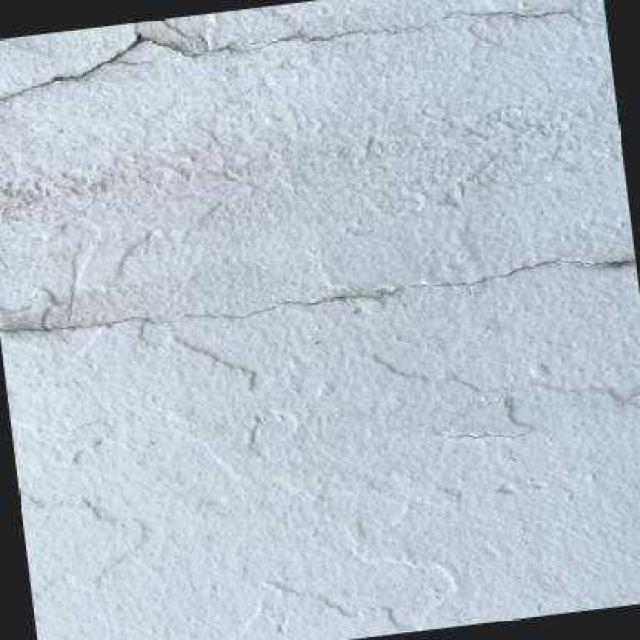D00: (0, 1, 605, 103), (6, 251, 635, 337)
